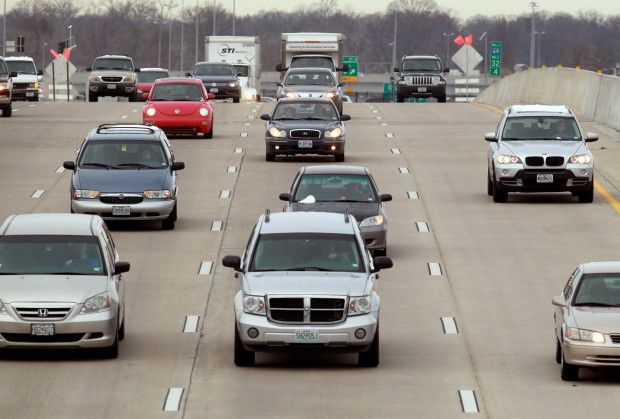car: (239, 208, 381, 380), (1, 214, 132, 365), (66, 123, 183, 229), (284, 164, 394, 273), (484, 105, 600, 206), (550, 259, 620, 383), (265, 96, 350, 160), (140, 76, 218, 137), (275, 68, 343, 119), (396, 54, 447, 106), (88, 54, 140, 105), (186, 62, 245, 105), (1, 55, 38, 101)
